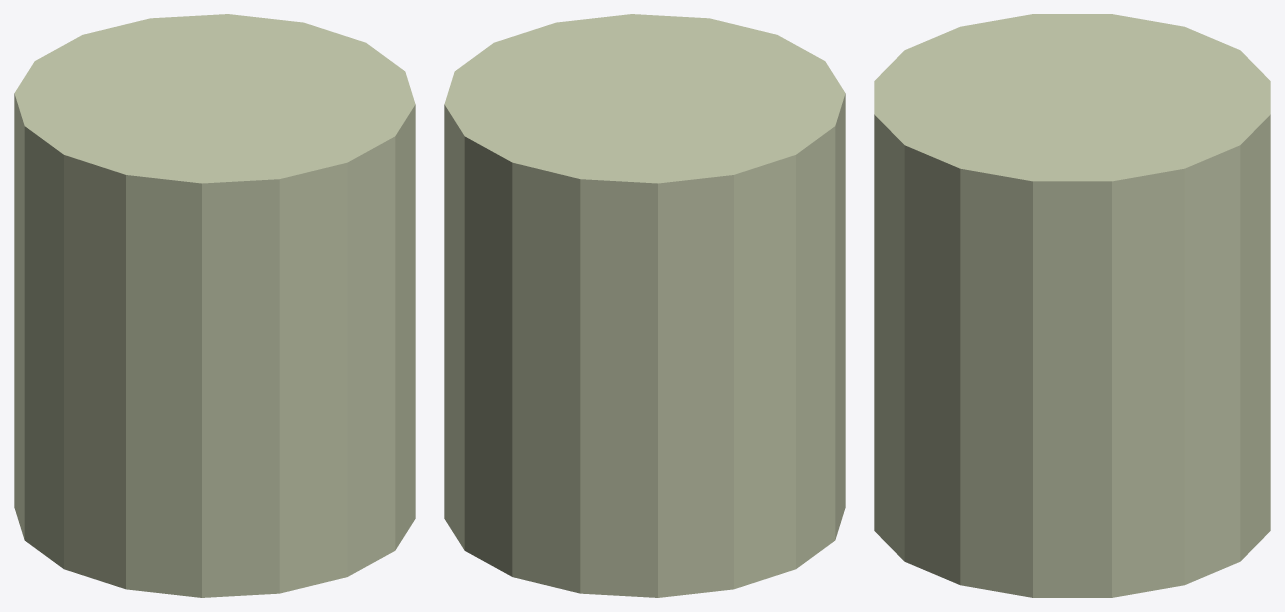
The model's file is Eridani_Crew_2_Collider.obj.
The picture shows the model from 3 angles, left to right: view 1: azimuth 30°, elevation 25°; view 2: azimuth 150°, elevation 25°; view 3: azimuth 270°, elevation 25°; orthographic projection.
Parts seen in each view (by area): view 1: Eridani_Crew_2_Collider; view 2: Eridani_Crew_2_Collider; view 3: Eridani_Crew_2_Collider.
Boxes of the visible parts, <box> form: Eridani_Crew_2_Collider: <box>14,14,415,597</box>; Eridani_Crew_2_Collider: <box>444,14,845,597</box>; Eridani_Crew_2_Collider: <box>874,14,1270,597</box>.
Bounding box in the file's own units: 2.5 × 2.9 × 2.5.
